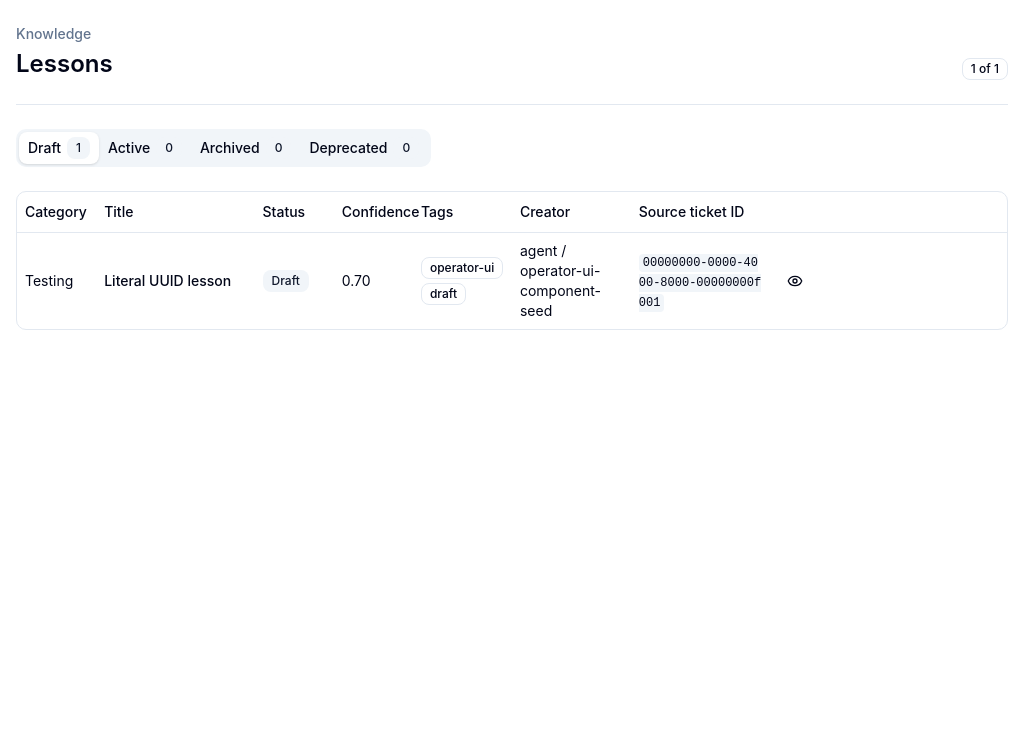
Test: lessons view browser rendering › opens a read-only drawer with full lesson detail and literal UUIDs
The image size is (1024, 744).
Click the button named "View lesson details: Literal UUID lesson" at (795, 280), box [777,262,813,298]
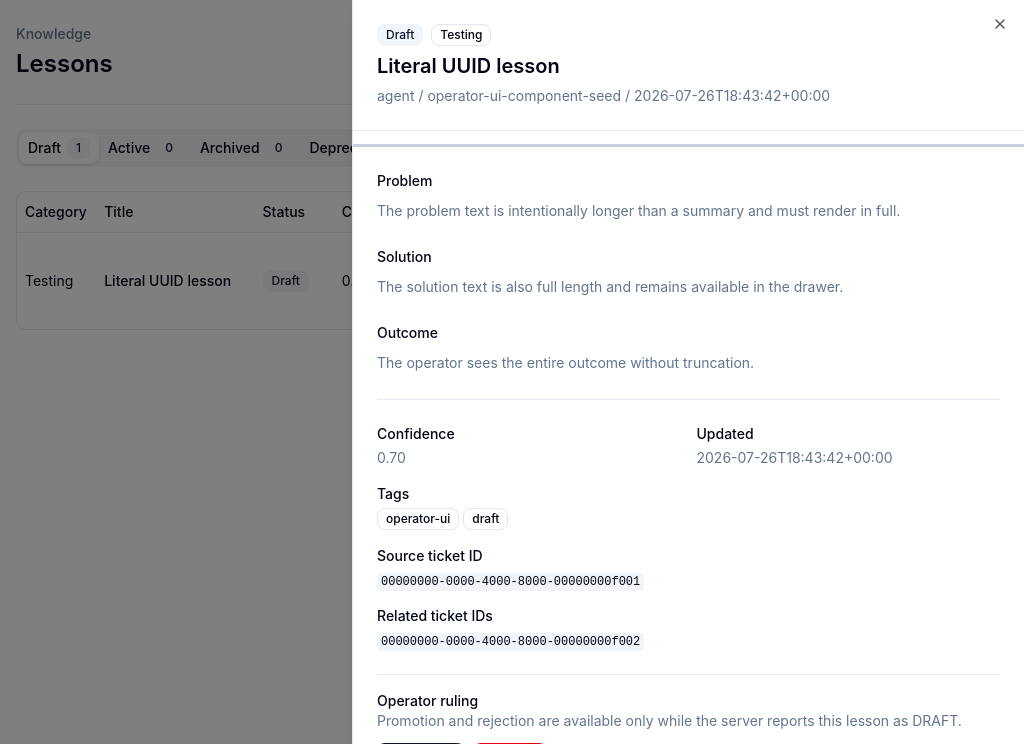
Expected: the text "The problem text is intentionally longer than a summary and must render in full." is shown, [377,202,900,219]
Expected: the text "The solution text is also full length and remains available in the drawer." is shown, [377,278,843,295]
Expected: the text "The operator sees the entire outcome without truncation." is shown, [377,354,754,371]
